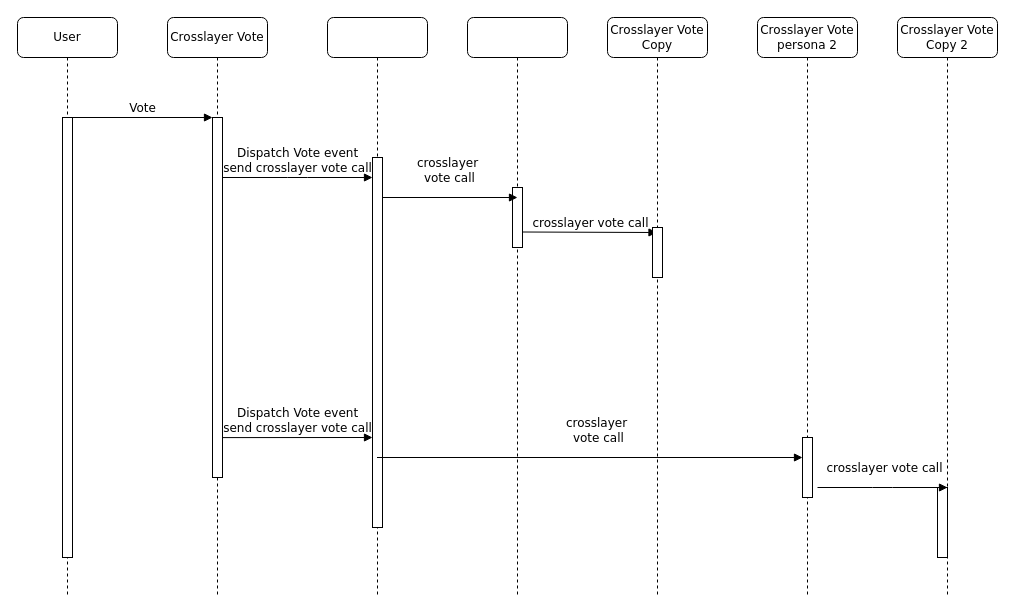
This 1015x615 diagram has some shape labels left out. The shapes that lost their labels are listed below. From the top down, each one's box as (x1, y1, x2, y2) in pixels, then its label:
(326, 16, 428, 598): relayer
(466, 16, 568, 598): Crosslayer Vote persona
